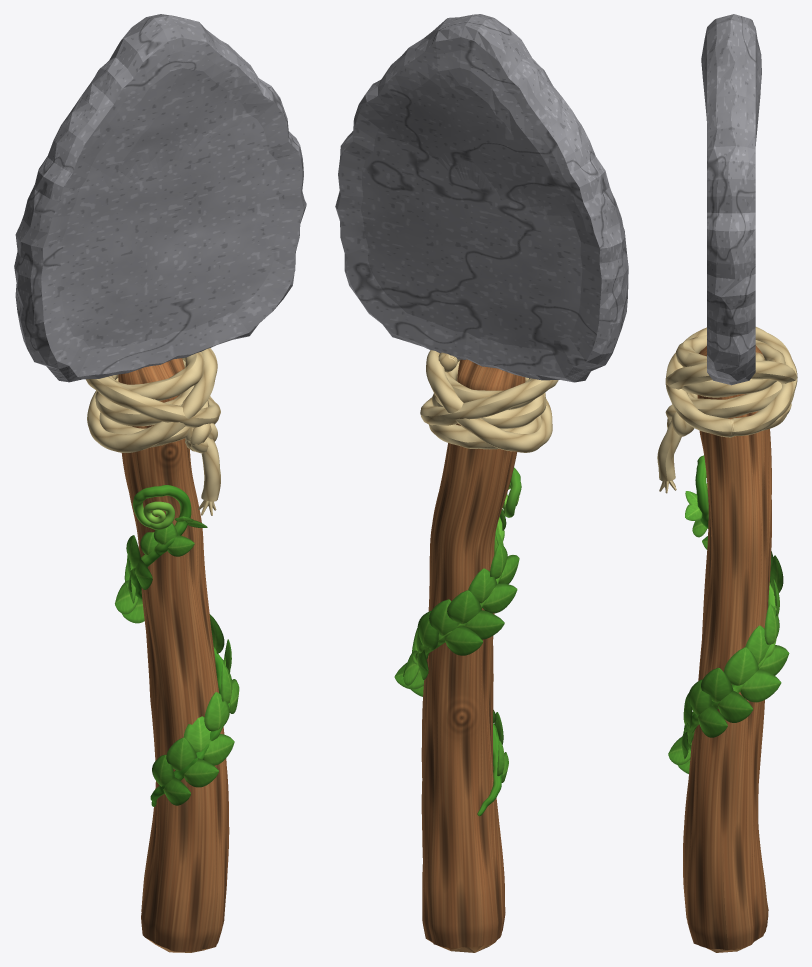
The model's file is PalaRamaHelecho.glb.
3 renders of one model, left to right at view 1: azimuth 30°, elevation 25°; view 2: azimuth 150°, elevation 25°; view 3: azimuth 270°, elevation 25°, orthographic.
Visible parts, largest first — view 1: HojaPiedra, Mango, Cuerda, HojasHelecho, TalloHelecho; view 2: HojaPiedra, Mango, Cuerda, HojasHelecho, TalloHelecho; view 3: Mango, HojaPiedra, Cuerda, HojasHelecho, TalloHelecho.
Part boxes in pixels (x1=…): HojaPiedra: x1=14, y1=14, x2=306, y2=382; Mango: x1=118, y1=358, x2=229, y2=952; Cuerda: x1=86, y1=348, x2=220, y2=515; HojasHelecho: x1=115, y1=516, x2=239, y2=805; TalloHelecho: x1=130, y1=485, x2=230, y2=806; HojaPiedra: x1=335, y1=14, x2=628, y2=382; Mango: x1=421, y1=359, x2=525, y2=952; Cuerda: x1=420, y1=350, x2=558, y2=452; HojasHelecho: x1=394, y1=509, x2=519, y2=782; TalloHelecho: x1=415, y1=467, x2=521, y2=816; Mango: x1=683, y1=345, x2=771, y2=952; HojaPiedra: x1=701, y1=14, x2=761, y2=385; Cuerda: x1=657, y1=327, x2=797, y2=493; HojasHelecho: x1=668, y1=491, x2=789, y2=773; TalloHelecho: x1=682, y1=455, x2=776, y2=750.
Bounding box in the file's own units: 1.72 × 5.41 × 0.7499.
4 materials, 4 textured.
